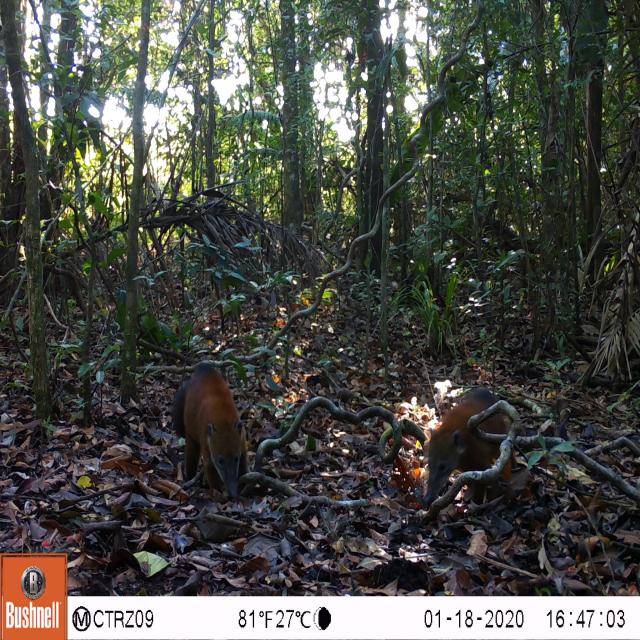South American Coati: (414, 372, 532, 518), (166, 341, 262, 503)
